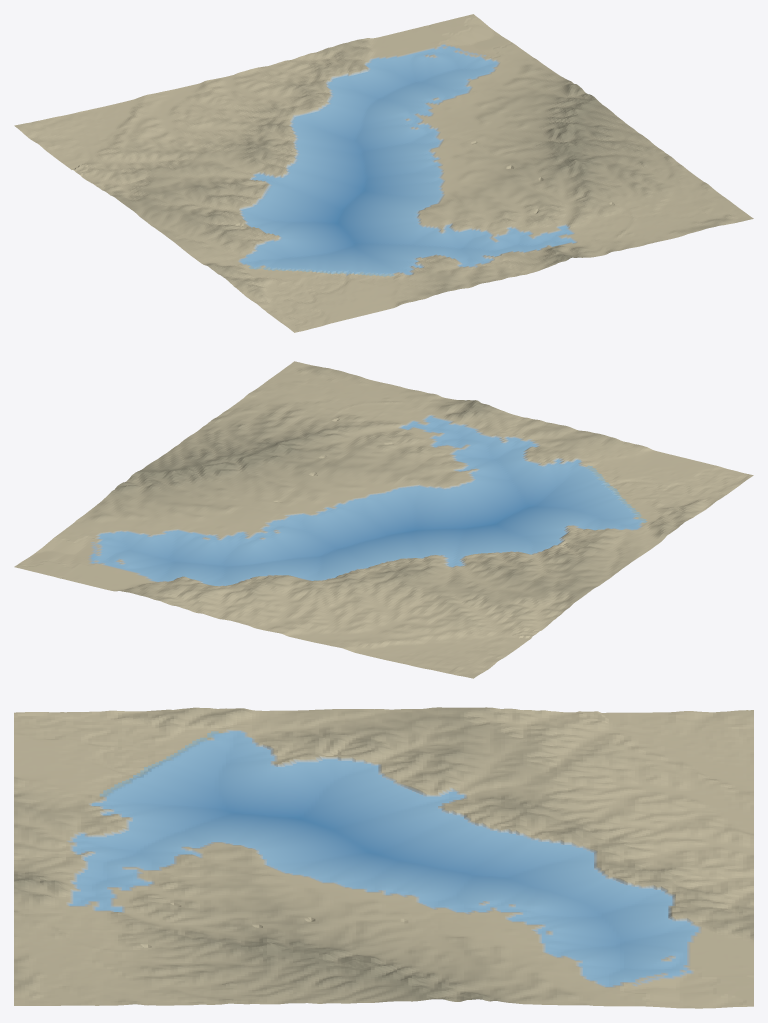
Rendered from ross_barnett_reservoir_ms.glb.
3 views of the same model, one above another, from view 1: azimuth 30°, elevation 25°; view 2: azimuth 150°, elevation 25°; view 3: azimuth 270°, elevation 25° (orthographic). The views are drawn at different scales.
Visible parts, largest first — view 1: terrain, water; view 2: terrain, water; view 3: terrain, water.
Boxes of the visible parts, x1,y1,x2,y2 form: terrain: (14,14,753,332); water: (240,45,575,276); terrain: (14,361,753,678); water: (91,416,647,585); terrain: (14,707,753,1008); water: (69,731,698,986).
Bounding box in the file's own units: 17500 × 578 × 18498.
